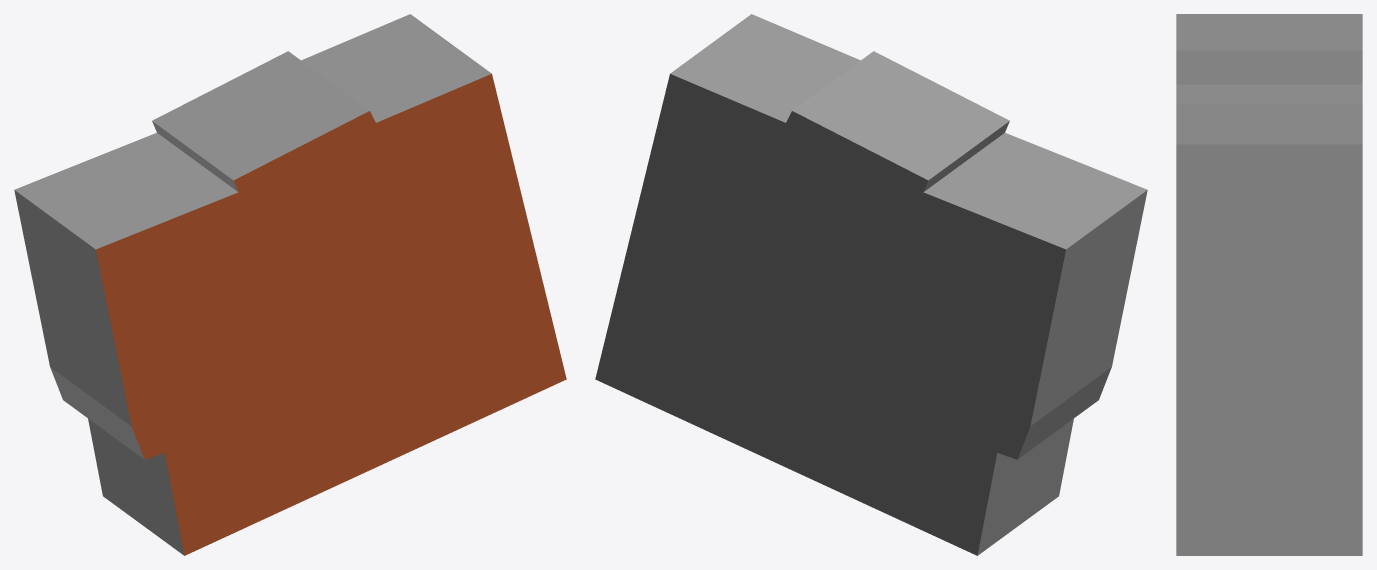
File: construction_4593_assumed_A_Casa_h6m.obj
3 views of the same model, side by side, from view 1: azimuth 30°, elevation 25°; view 2: azimuth 150°, elevation 25°; view 3: azimuth 270°, elevation 25° (orthographic). The views are drawn at different scales.
Parts seen in each view (by area): view 1: construction_4593_assumed_A_Casa; view 2: construction_4593_assumed_A_Casa; view 3: construction_4593_assumed_A_Casa.
Part boxes in pixels (<box>): construction_4593_assumed_A_Casa: <box>14,14,566,555</box>; construction_4593_assumed_A_Casa: <box>595,14,1147,555</box>; construction_4593_assumed_A_Casa: <box>1176,14,1362,555</box>.
Bounding box in the file's own units: 19.99 × 16.52 × 6.
